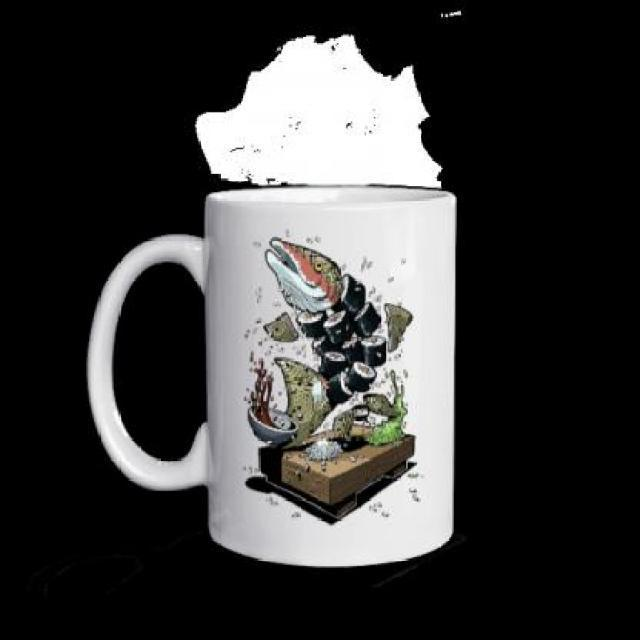taza: (86, 185, 457, 566)
